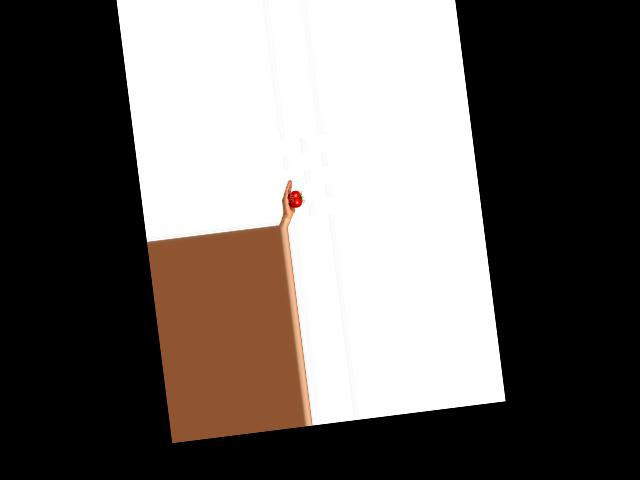tomato: (287, 189, 303, 208)
